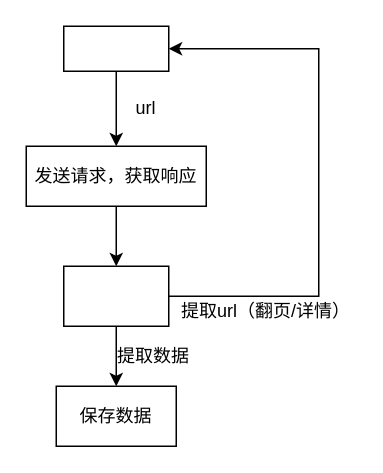
Some shapes in this 383 by 473 pixel diagram are drawn without their labels. Here are the shapes that lost their labels. From the top down, the box of each, then its label:
(62, 25, 169, 71): url_list
(62, 265, 169, 326): 解析响应
